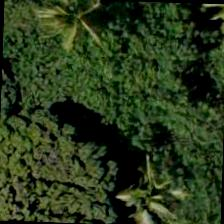Kelapa_Sawit: (97, 152, 191, 223), (22, 0, 115, 60)
